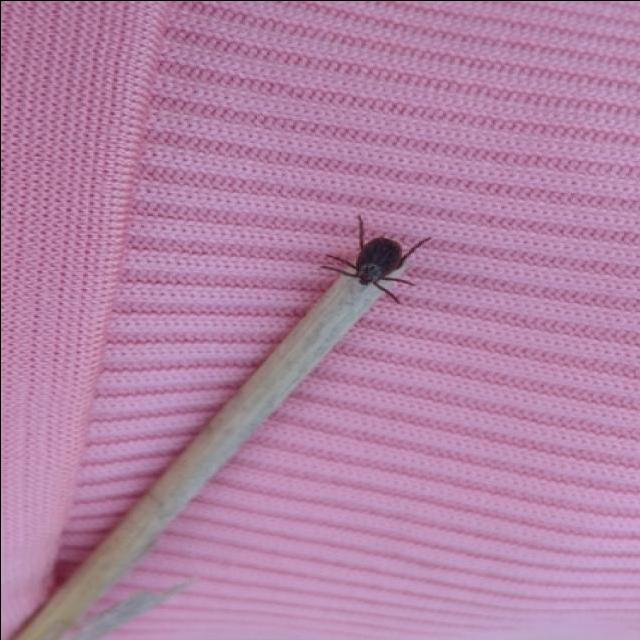Dermacentor Reticulatus-F: (323, 215, 432, 305)
